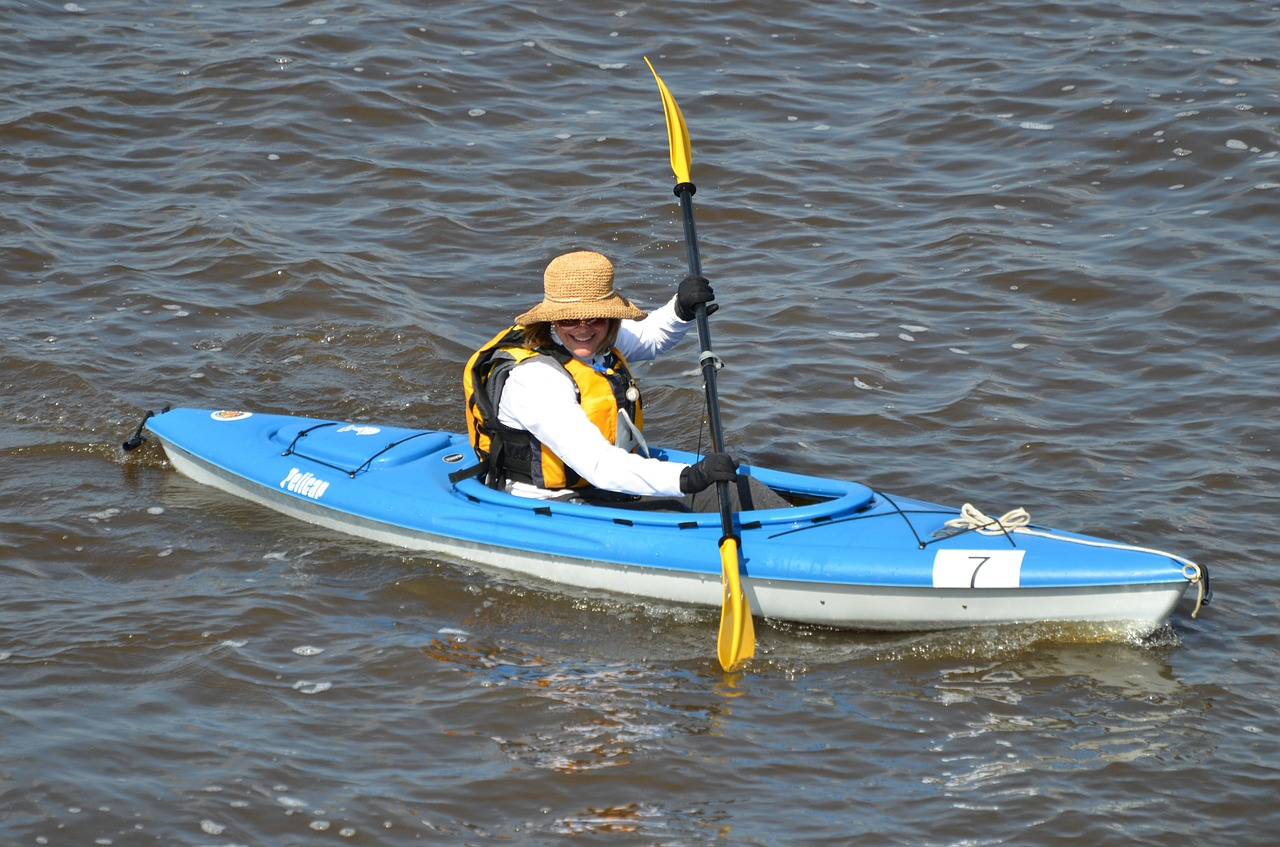kayak: (129, 382, 1204, 641)
